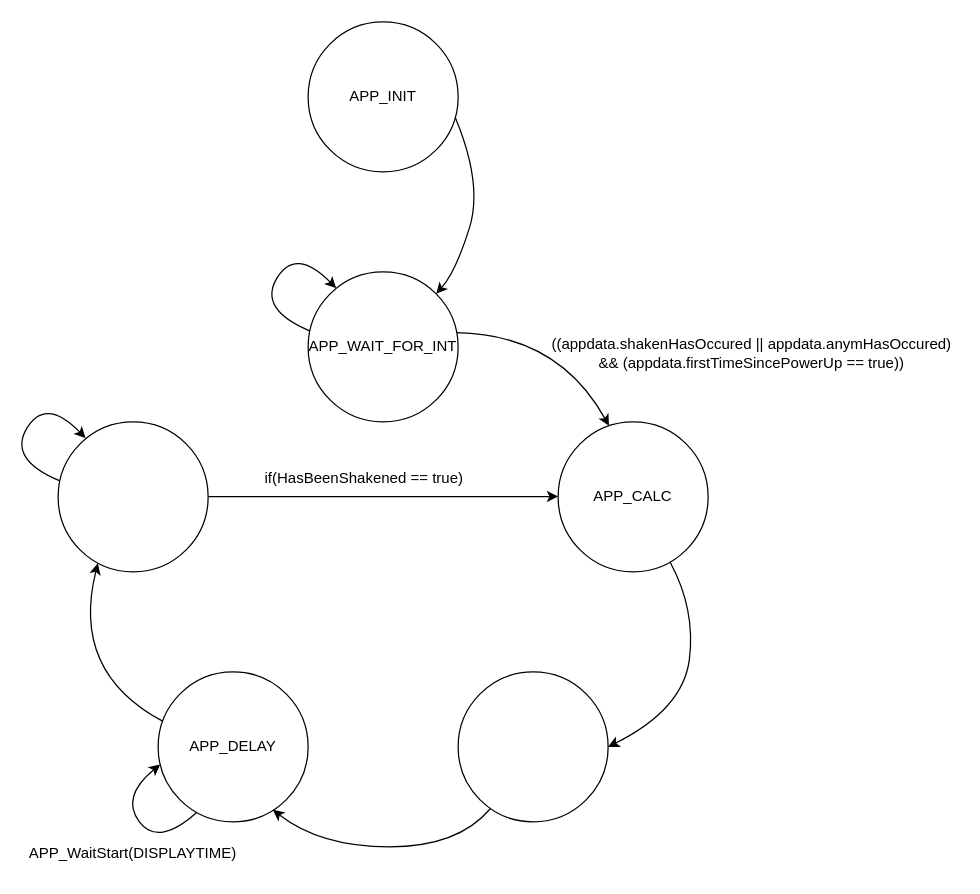
The diagram is 980 pixels wide and 894 high, and some of its shapes have lost their labels. The shapes that lost their labels are listed below. From the top down, each one's centre as x and y in pixels, then its label:
At (x=132, y=496): "APP_Sleep".
At (x=532, y=746): "APP_DISPLAY".
